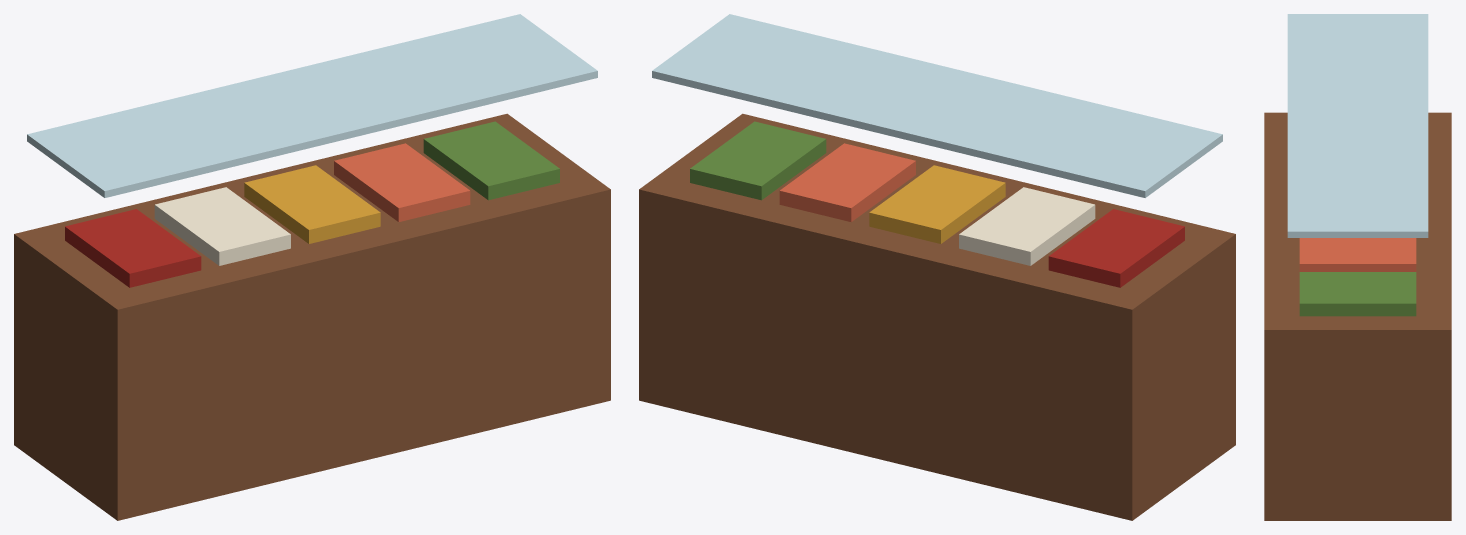
File: salad_bar.glb
3 renders of one model, left to right at view 1: azimuth 30°, elevation 25°; view 2: azimuth 150°, elevation 25°; view 3: azimuth 270°, elevation 25°, orthographic. The views are drawn at different scales.
Parts seen in each view (by area): view 1: Box1, Box7, Box2, Box3, Box4, Box5, Box6; view 2: Box1, Box7, Box2, Box3, Box4, Box5, Box6; view 3: Box1, Box7, Box2, Box3.
Part boxes in pixels (left/top/right/bottom): Box1: left=14, top=113, right=610, bottom=520; Box7: left=27, top=14, right=597, bottom=197; Box2: left=423, top=121, right=559, bottom=200; Box3: left=334, top=143, right=470, bottom=221; Box4: left=244, top=165, right=380, bottom=243; Box5: left=154, top=187, right=290, bottom=265; Box6: left=65, top=209, right=201, bottom=287; Box1: left=639, top=113, right=1235, bottom=520; Box7: left=652, top=14, right=1222, bottom=197; Box2: left=690, top=121, right=826, bottom=200; Box3: left=779, top=143, right=915, bottom=221; Box4: left=869, top=165, right=1005, bottom=243; Box5: left=959, top=187, right=1095, bottom=265; Box6: left=1048, top=209, right=1184, bottom=287; Box1: left=1264, top=112, right=1451, bottom=520; Box7: left=1287, top=14, right=1428, bottom=237; Box2: left=1299, top=272, right=1416, bottom=316; Box3: left=1299, top=238, right=1416, bottom=271.
Size of the model in its own units: 2.2 by 1.37 by 0.8.
